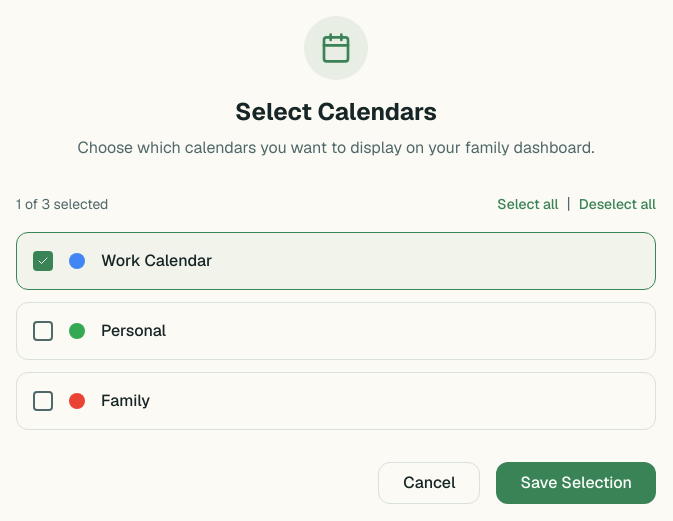
Test: CalendarConnectPage › toggles calendar selection on click
The width and height of the screenshot is (673, 521).
Check: the text "Personal" is shown, box x1=101 y1=320 x2=166 y2=341
// Click Personal to select it
Click the button "Personal" at (134, 330), box x1=16 y1=302 x2=656 y2=360
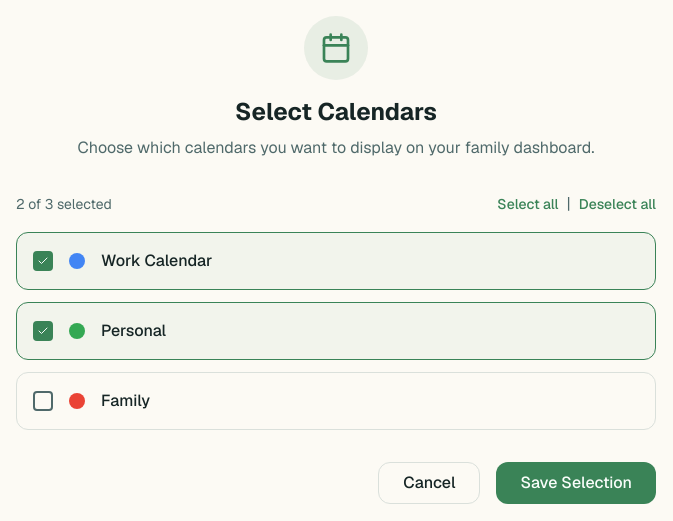
Check: the text "2 of 3 selected" is shown, box x1=16 y1=194 x2=112 y2=214
